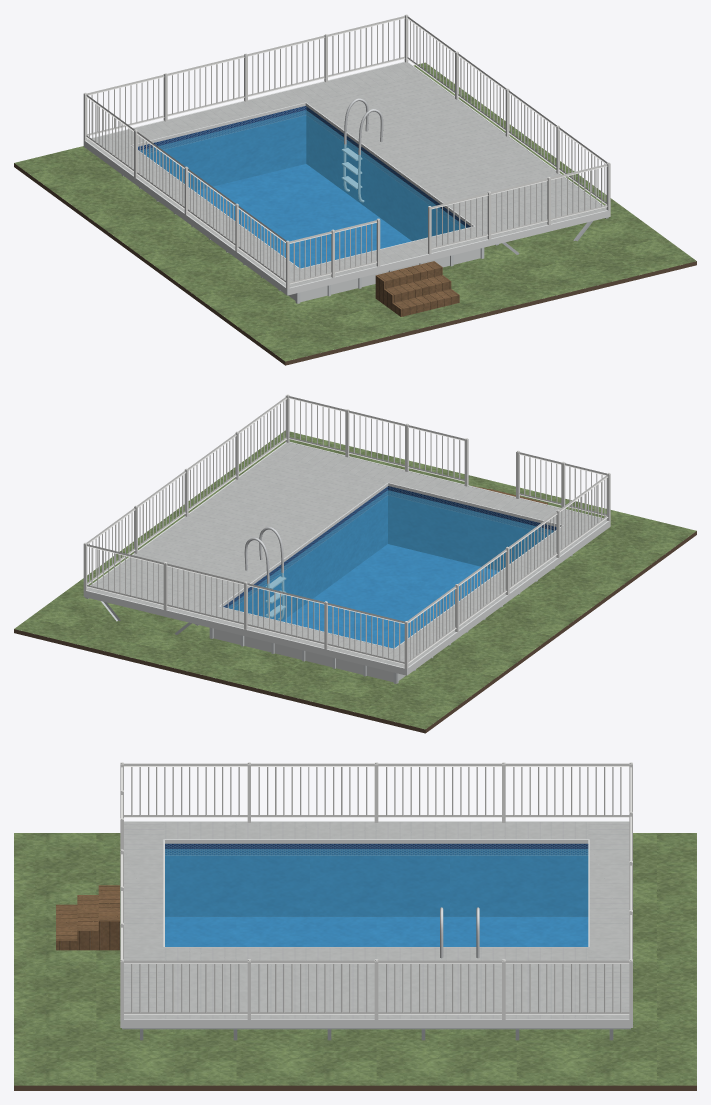
The model's file is kayak-pool-12x20-white-side-rec-fence.ea2be1e93d.glb.
The picture shows the model from 3 angles, top to bottom: view 1: azimuth 30°, elevation 25°; view 2: azimuth 150°, elevation 25°; view 3: azimuth 270°, elevation 25°; orthographic projection. The views are drawn at different scales.
Parts seen in each view (by area): view 1: ground, deck, water, fence, liner_wall, liner_floor, fascia, steps, soil, wall, steel; view 2: ground, deck, water, fence, liner_wall, liner_floor, fascia, soil, wall, steel; view 3: ground, deck, water, liner_wall, fence, liner_floor, fascia, soil, steps, stud.
Boxes of the visible parts, <box> form: ground: <box>14,62,696,361</box>; deck: <box>86,62,606,287</box>; water: <box>140,110,466,268</box>; fence: <box>83,14,610,288</box>; liner_wall: <box>138,106,470,240</box>; liner_floor: <box>195,164,411,268</box>; fascia: <box>83,61,610,295</box>; steps: <box>375,261,459,316</box>; soil: <box>14,163,696,365</box>; wall: <box>288,248,480,301</box>; steel: <box>342,98,383,202</box>; ground: <box>14,430,696,729</box>; deck: <box>87,442,606,667</box>; water: <box>228,490,553,648</box>; fence: <box>83,394,610,668</box>; liner_wall: <box>223,486,556,621</box>; liner_floor: <box>282,544,499,648</box>; fascia: <box>83,442,610,675</box>; soil: <box>14,531,696,733</box>; wall: <box>213,628,405,682</box>; steel: <box>244,527,286,620</box>; ground: <box>14,833,696,1085</box>; deck: <box>124,822,629,1018</box>; water: <box>165,849,588,946</box>; liner_wall: <box>165,843,588,916</box>; fence: <box>120,762,632,1019</box>; liner_floor: <box>165,917,588,946</box>; fascia: <box>120,821,632,1027</box>; soil: <box>14,1085,696,1090</box>; steps: <box>56,885,119,950</box>; stud: <box>122,1028,630,1040</box>.
Bounding box in the file's own units: 8.53 × 2.15 × 9.75.
Materials: 13 (5 with a texture image).
